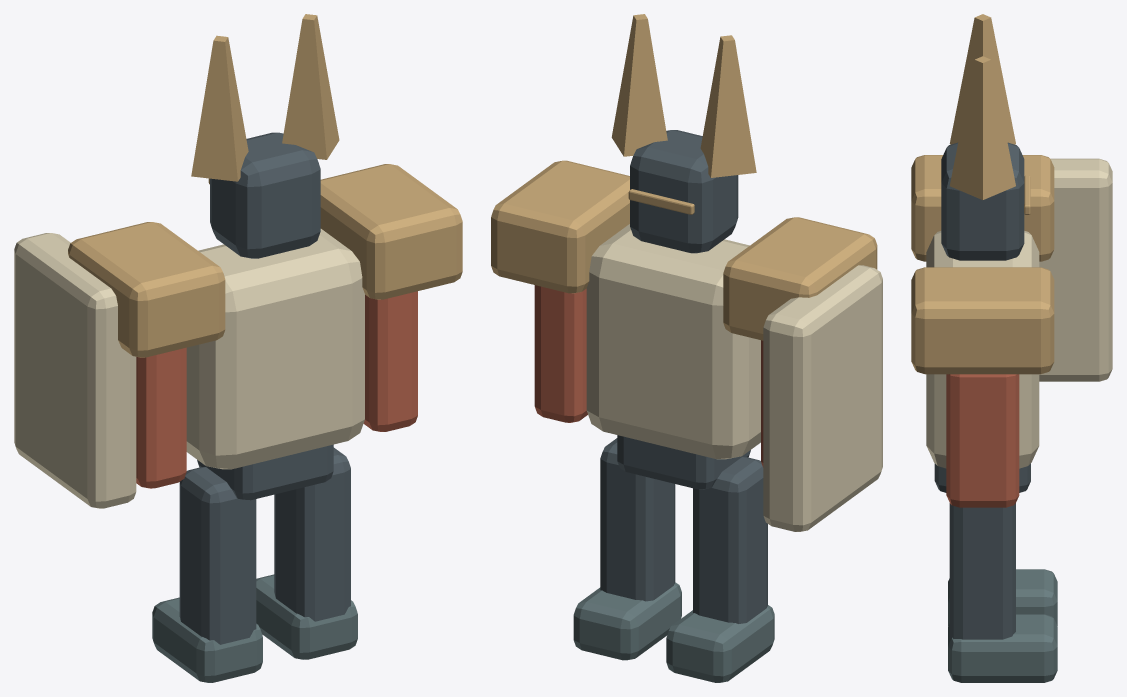
Rendered from enemy_elite.glb.
3 views of the same model, side by side, from view 1: azimuth 30°, elevation 25°; view 2: azimuth 150°, elevation 25°; view 3: azimuth 270°, elevation 25° (orthographic). The views are drawn at different scales.
Visible parts, largest first — view 1: Angular torso, Elite shield, Wide elite mantle.001, Wide elite mantle, Leg, Masked head, Leg.001, Arm.001, Arm, Cone, Cone.001, Foot (+2 smaller); view 2: Angular torso, Elite shield, Wide elite mantle.001, Leg, Wide elite mantle, Leg.001, Masked head, Arm.001, Foot, Foot.001, Cone, Cone.001 (+2 smaller); view 3: Wide elite mantle.001, Elite shield, Arm.001, Leg.001, Masked head, Cone.001, Foot.001, Wide elite mantle, Angular torso, Cone, Foot, Waist.
Boxes of the visible parts, left/top/right/bottom form: Angular torso: left=186, top=229, right=364, bottom=469; Elite shield: left=14, top=233, right=136, bottom=508; Wide elite mantle.001: left=320, top=164, right=462, bottom=299; Wide elite mantle: left=68, top=222, right=225, bottom=357; Leg: left=179, top=467, right=256, bottom=644; Masked head: left=210, top=132, right=320, bottom=258; Leg.001: left=274, top=447, right=350, bottom=621; Arm.001: left=363, top=291, right=417, bottom=431; Arm: left=136, top=347, right=186, bottom=488; Cone: left=191, top=35, right=248, bottom=181; Cone.001: left=282, top=14, right=339, bottom=159; Foot: left=152, top=597, right=262, bottom=682; Angular torso: left=586, top=224, right=760, bottom=459; Elite shield: left=763, top=265, right=882, bottom=531; Wide elite mantle.001: left=491, top=160, right=629, bottom=293; Leg: left=693, top=457, right=767, bottom=623; Wide elite mantle: left=723, top=217, right=877, bottom=340; Leg.001: left=600, top=438, right=675, bottom=601; Masked head: left=630, top=130, right=738, bottom=253; Arm.001: left=534, top=285, right=587, bottom=422; Foot: left=666, top=605, right=774, bottom=682; Foot.001: left=573, top=582, right=681, bottom=660; Cone: left=700, top=35, right=756, bottom=177; Cone.001: left=611, top=14, right=667, bottom=156; Wide elite mantle.001: left=911, top=267, right=1054, bottom=374; Elite shield: left=1039, top=158, right=1112, bottom=381; Arm.001: left=946, top=374, right=1019, bottom=507; Leg.001: left=949, top=503, right=1015, bottom=639; Masked head: left=941, top=142, right=1024, bottom=260; Cone.001: left=949, top=56, right=1015, bottom=199; Foot.001: left=948, top=614, right=1057, bottom=682; Wide elite mantle: left=911, top=155, right=1054, bottom=261; Angular torso: left=926, top=231, right=1039, bottom=468; Cone: left=949, top=14, right=1015, bottom=144; Foot: left=948, top=569, right=1057, bottom=625; Waist: left=934, top=463, right=1030, bottom=492.
Bounding box in the file's own units: 1.2 × 2.03 × 0.605.
